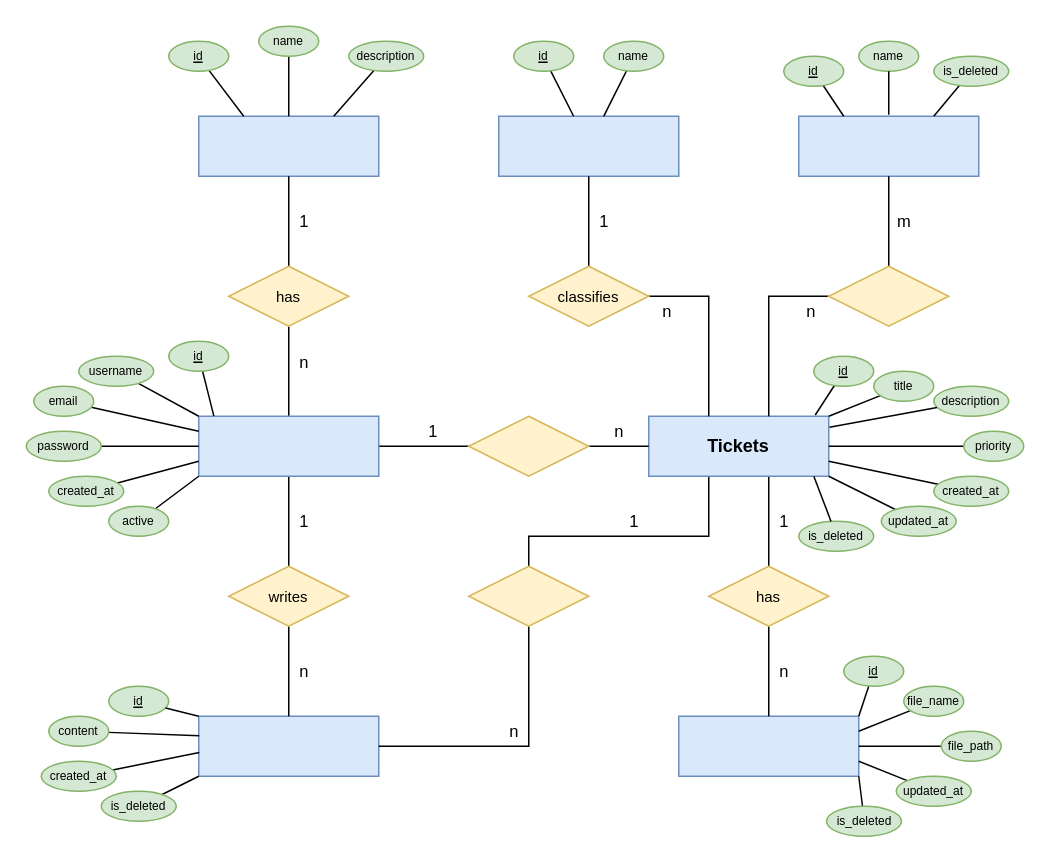
Image size: 1050x863. Some labels were removed from this diagram. Here are the shapes that lost their labels. From the top down, the centre of each, then its label:
At pixel 288 145: "Roles".
At pixel 588 145: "TicketStatuses".
At pixel 888 145: "Categories".
At pixel 888 295: "groups".
At pixel 288 445: "Users".
At pixel 528 445: "creates".
At pixel 528 595: "contains".
At pixel 288 745: "Messages".
At pixel 768 745: "FileAttachments".
